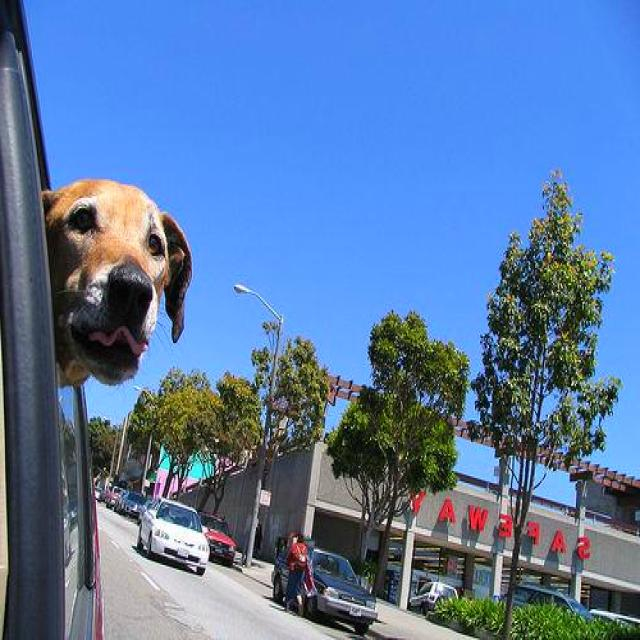rhodesian_ridgeback: (42, 169, 196, 391)
